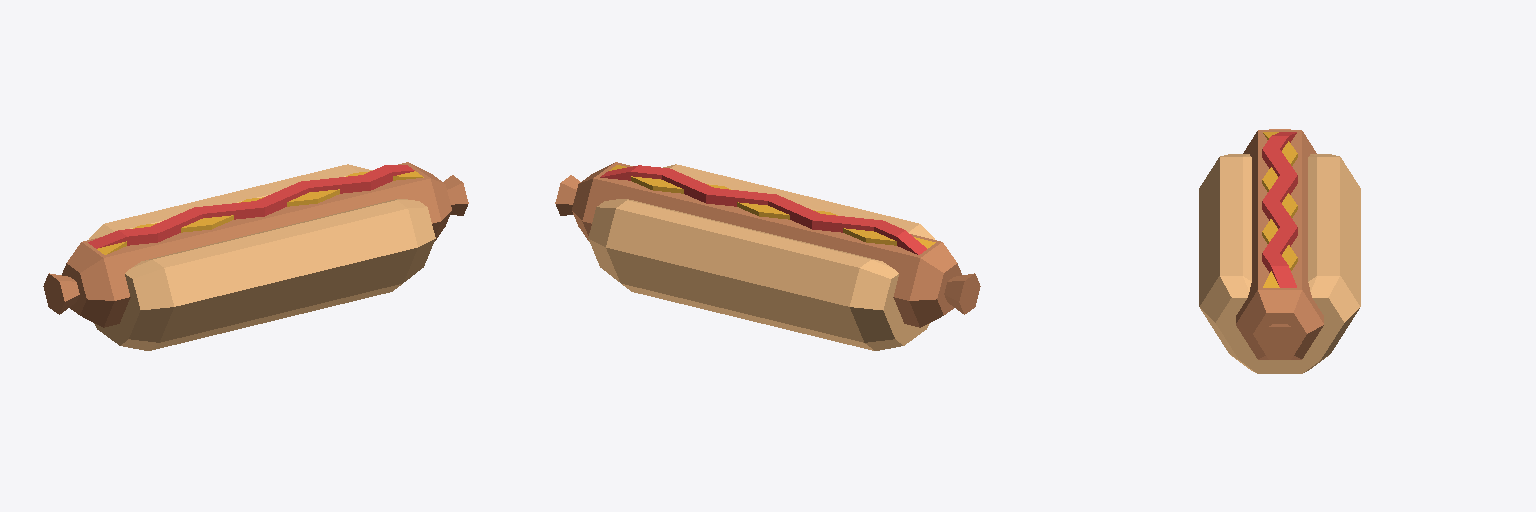
Rendered from hotDog.obj.
The picture shows the model from 3 angles: view 1: azimuth 30°, elevation 25°; view 2: azimuth 150°, elevation 25°; view 3: azimuth 270°, elevation 25°; orthographic projection.
Parts seen in each view (by area): view 1: hotDog, sausage, sauce; view 2: hotDog, sausage, sauce; view 3: hotDog, sausage, sauce.
Boxes of the visible parts, box(x1,y1,x2,y2) form: hotDog: box(89, 164, 435, 350); sausage: box(43, 162, 468, 327); sauce: box(88, 165, 423, 254); hotDog: box(588, 164, 934, 350); sausage: box(555, 162, 980, 327); sauce: box(600, 165, 935, 254); hotDog: box(1199, 154, 1360, 373); sausage: box(1236, 129, 1323, 359); sauce: box(1262, 132, 1297, 287).
Bounding box in the file's own units: 0.5859 × 0.1525 × 0.2026.